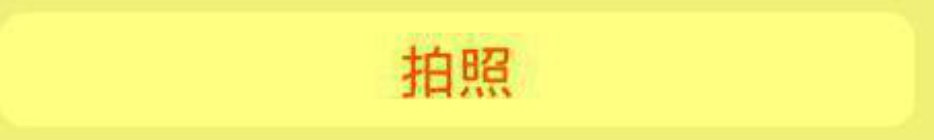Button: (1, 1, 933, 139)
